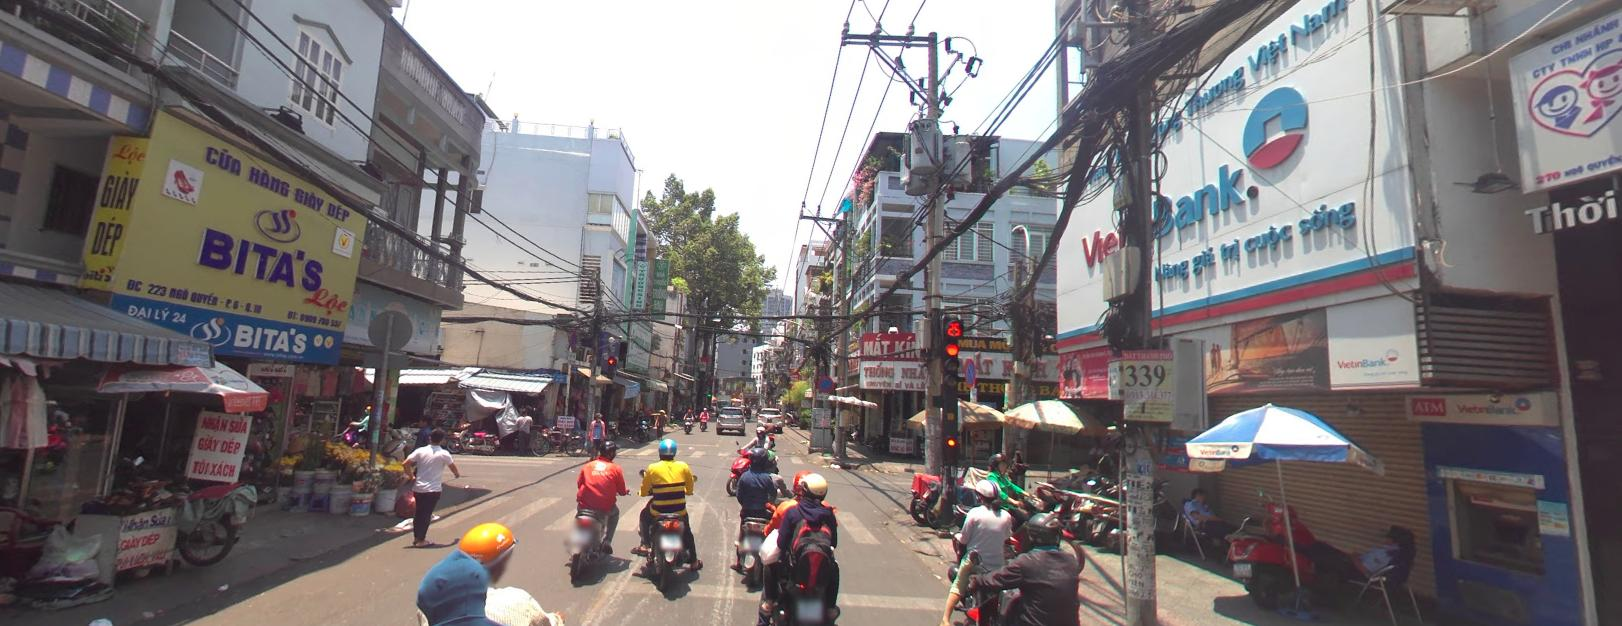Cam dung va do: (964, 357, 975, 385), (817, 372, 834, 391)
